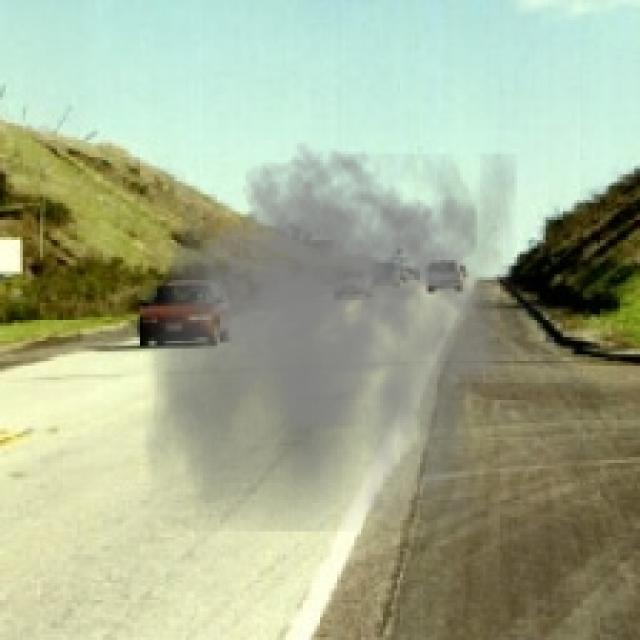Smoke: (142, 139, 518, 532)
